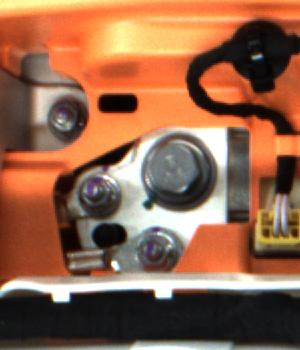nut_b: (136, 141, 214, 215)
screw_s: (132, 235, 179, 272), (43, 101, 82, 141), (79, 175, 116, 211)
